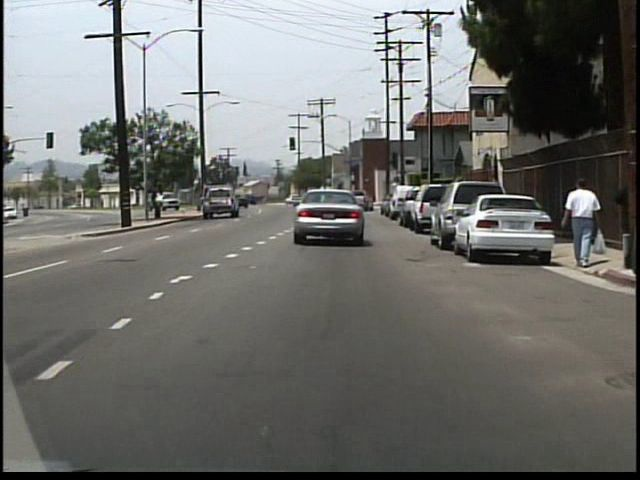person: (560, 174, 601, 270)
